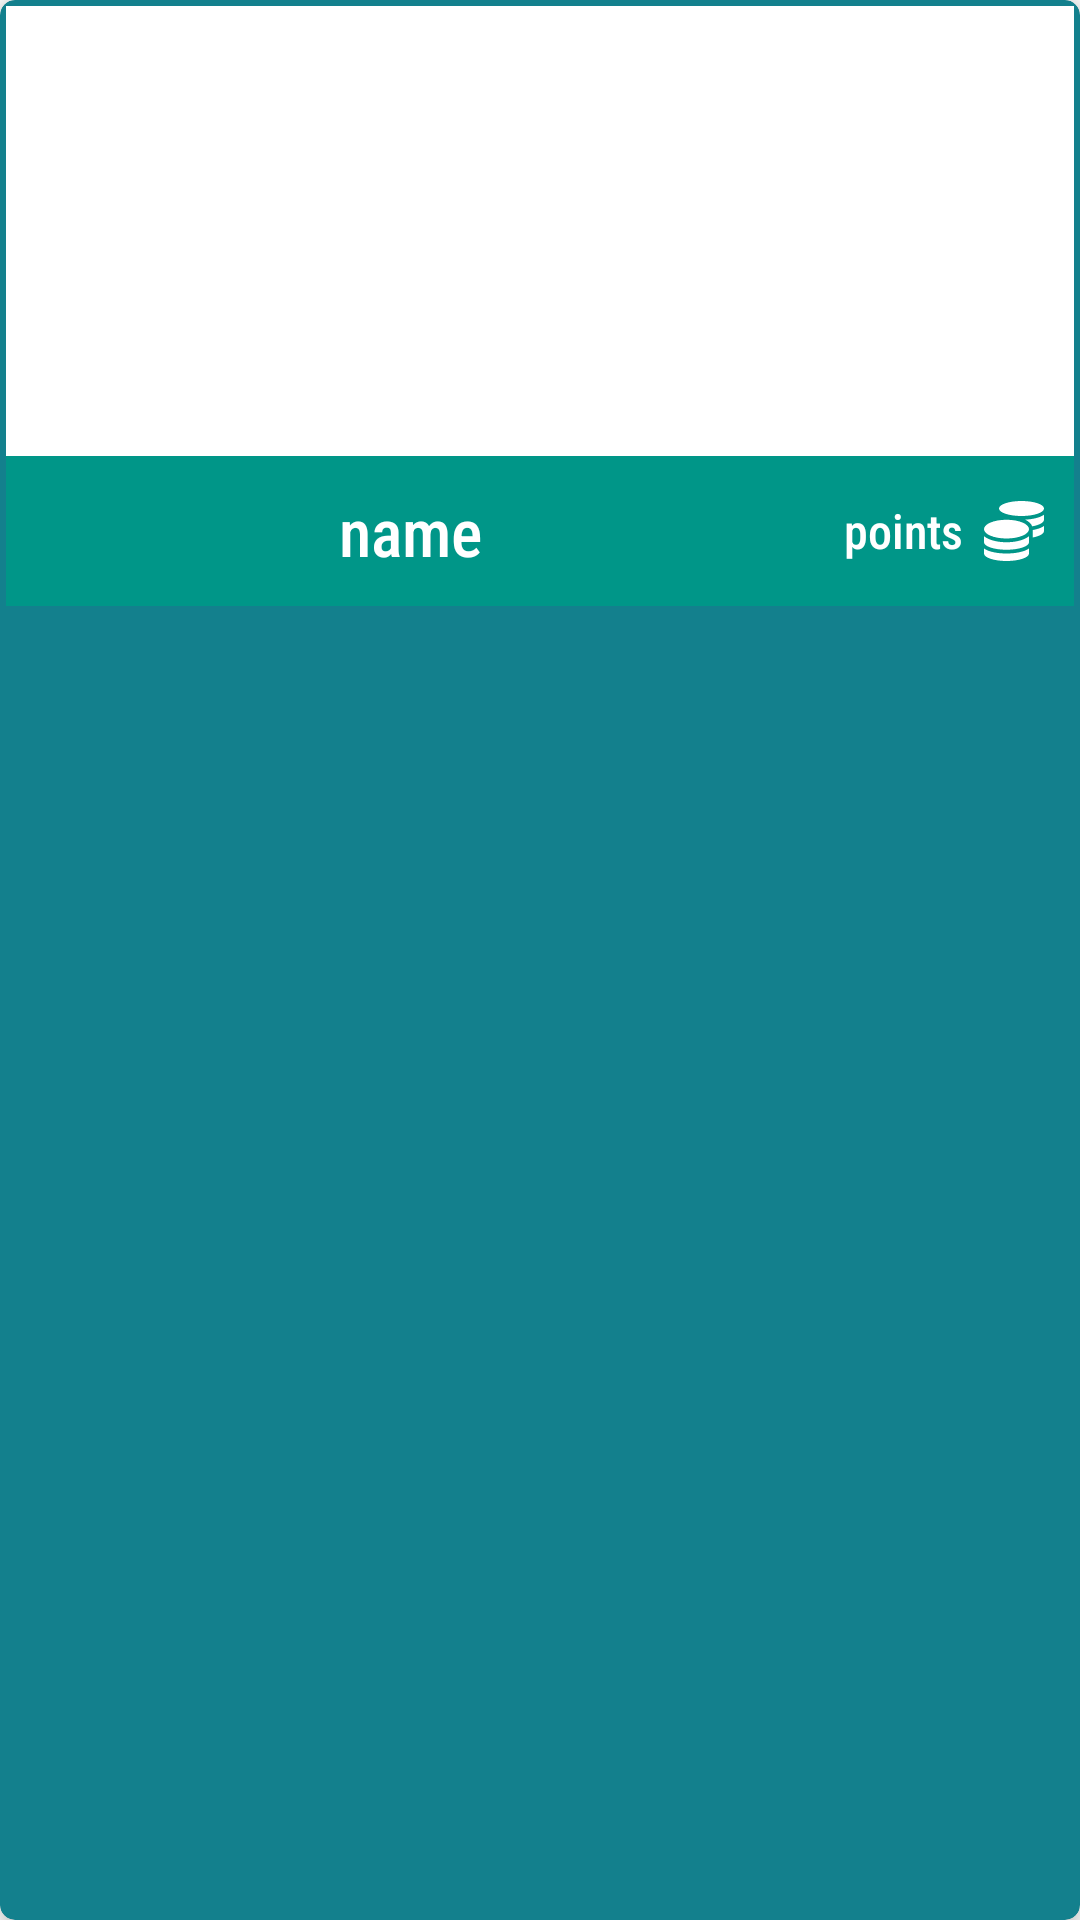

Icons on this 1080px×1920px Android screen, each with the point to tap as (x=x, y=y):
coins: (x=1014, y=531)
